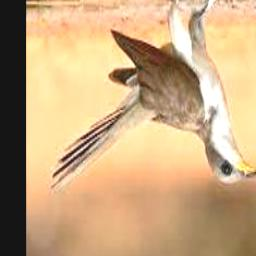Cuckoo: (51, 1, 256, 197)
